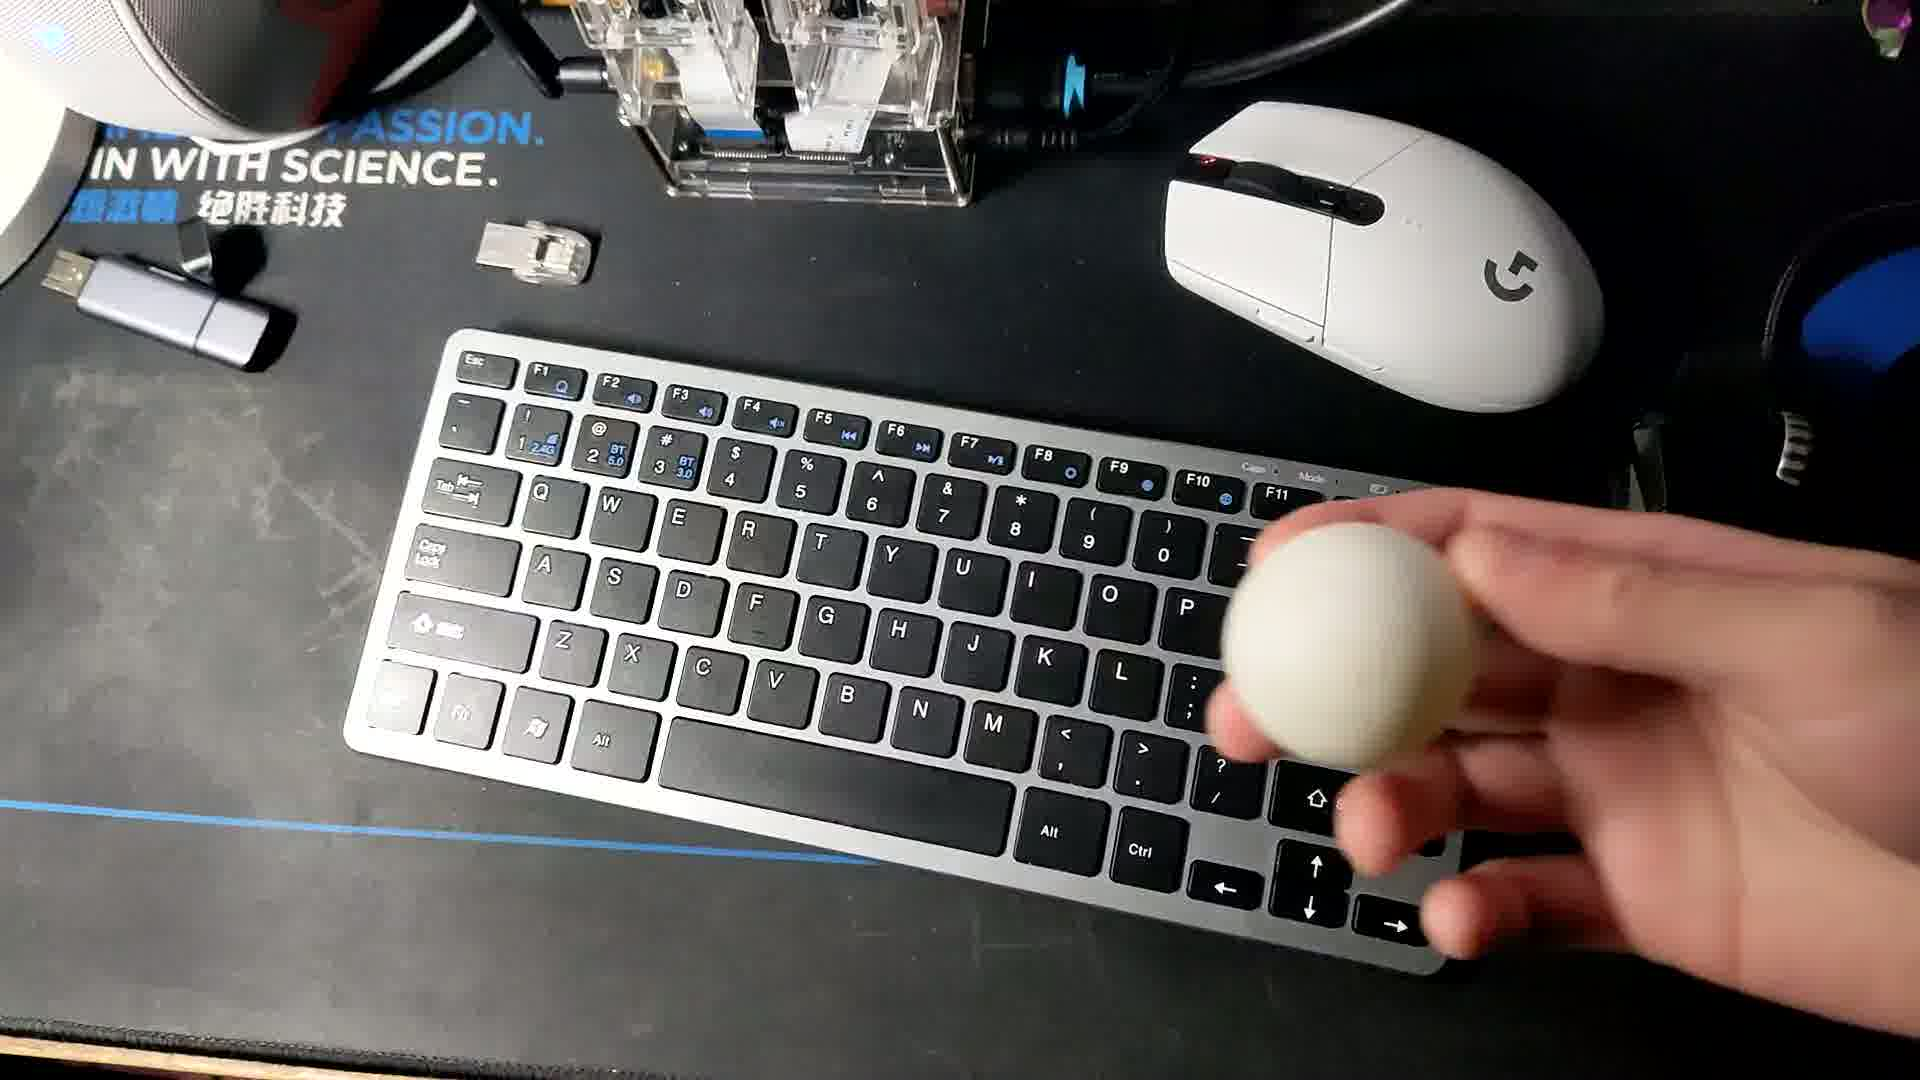Ball: (1217, 526, 1476, 782)
